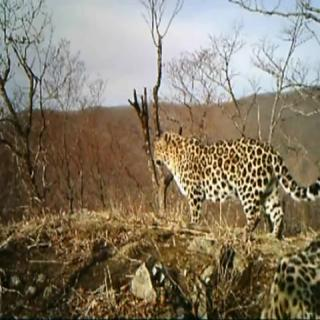Leopard: (150, 123, 320, 242)
